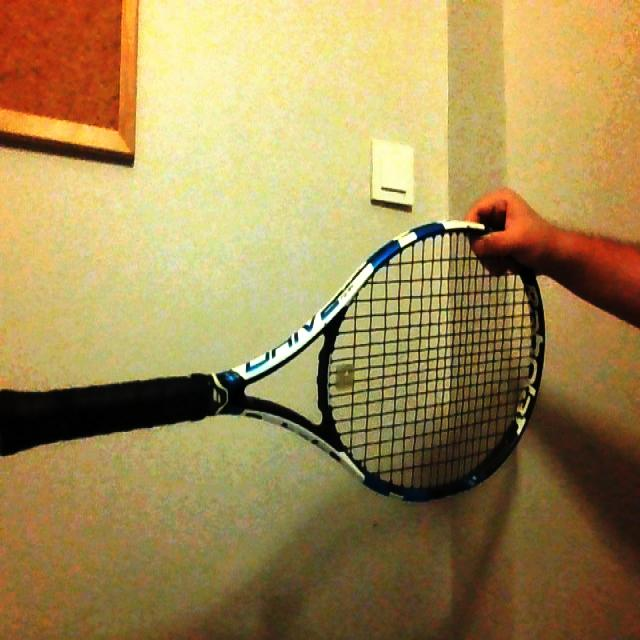TennisRacket: (0, 223, 548, 502)
